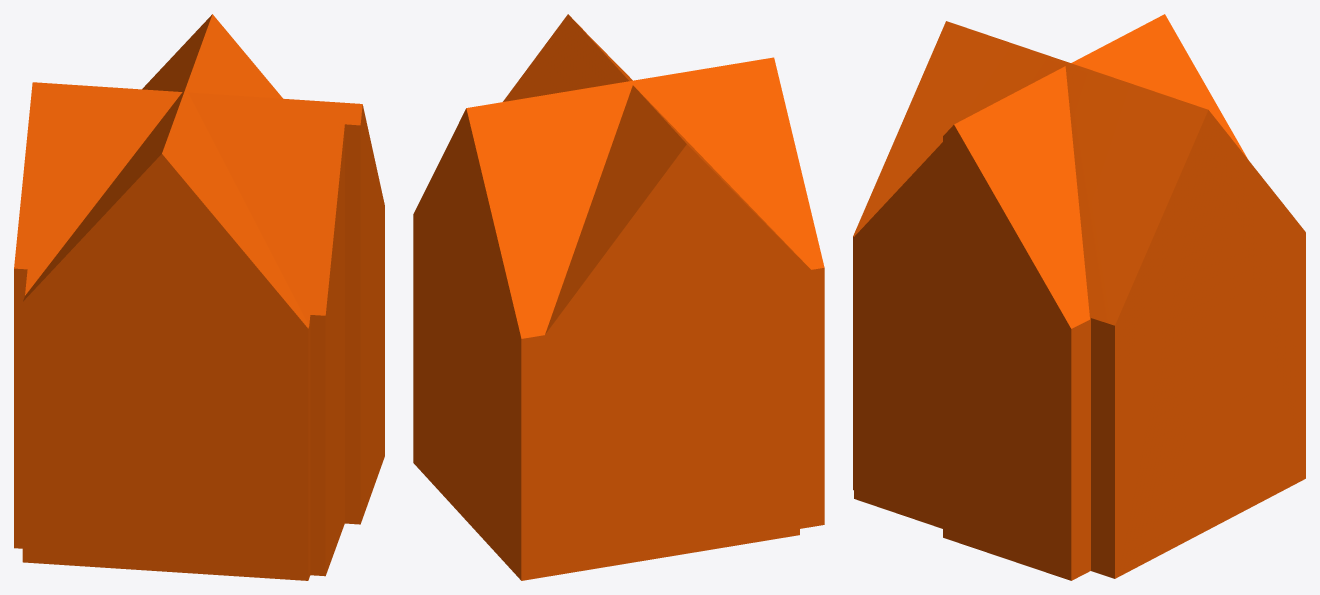
File: DEHB01ALs0000gAS.dae
3 renders of one model, left to right at view 1: azimuth 30°, elevation 25°; view 2: azimuth 150°, elevation 25°; view 3: azimuth 270°, elevation 25°, orthographic.
Bounding box in the file's own units: 12.76 × 13.09 × 13.39.
